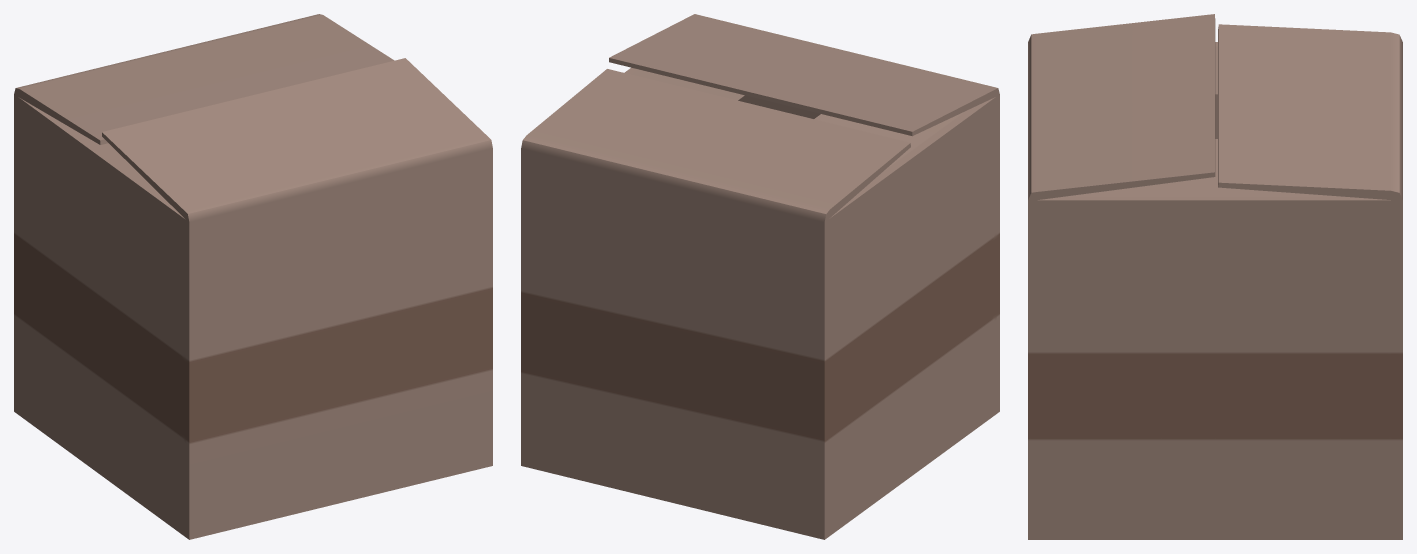
File: Cardboard_Box_Model.fbx
3 renders of one model, left to right at view 1: azimuth 30°, elevation 25°; view 2: azimuth 150°, elevation 25°; view 3: azimuth 270°, elevation 25°, orthographic. The views are drawn at different scales.
Visible parts, largest first — view 1: pCube1; view 2: pCube1; view 3: pCube1.
Boxes of the visible parts, box(x1,y1,x2,y2) form: pCube1: box(14, 14, 492, 539); pCube1: box(521, 14, 999, 539); pCube1: box(1028, 14, 1402, 539).
Size of the model in its own units: 30 by 32.47 by 30.
1 material, 1 textured.
